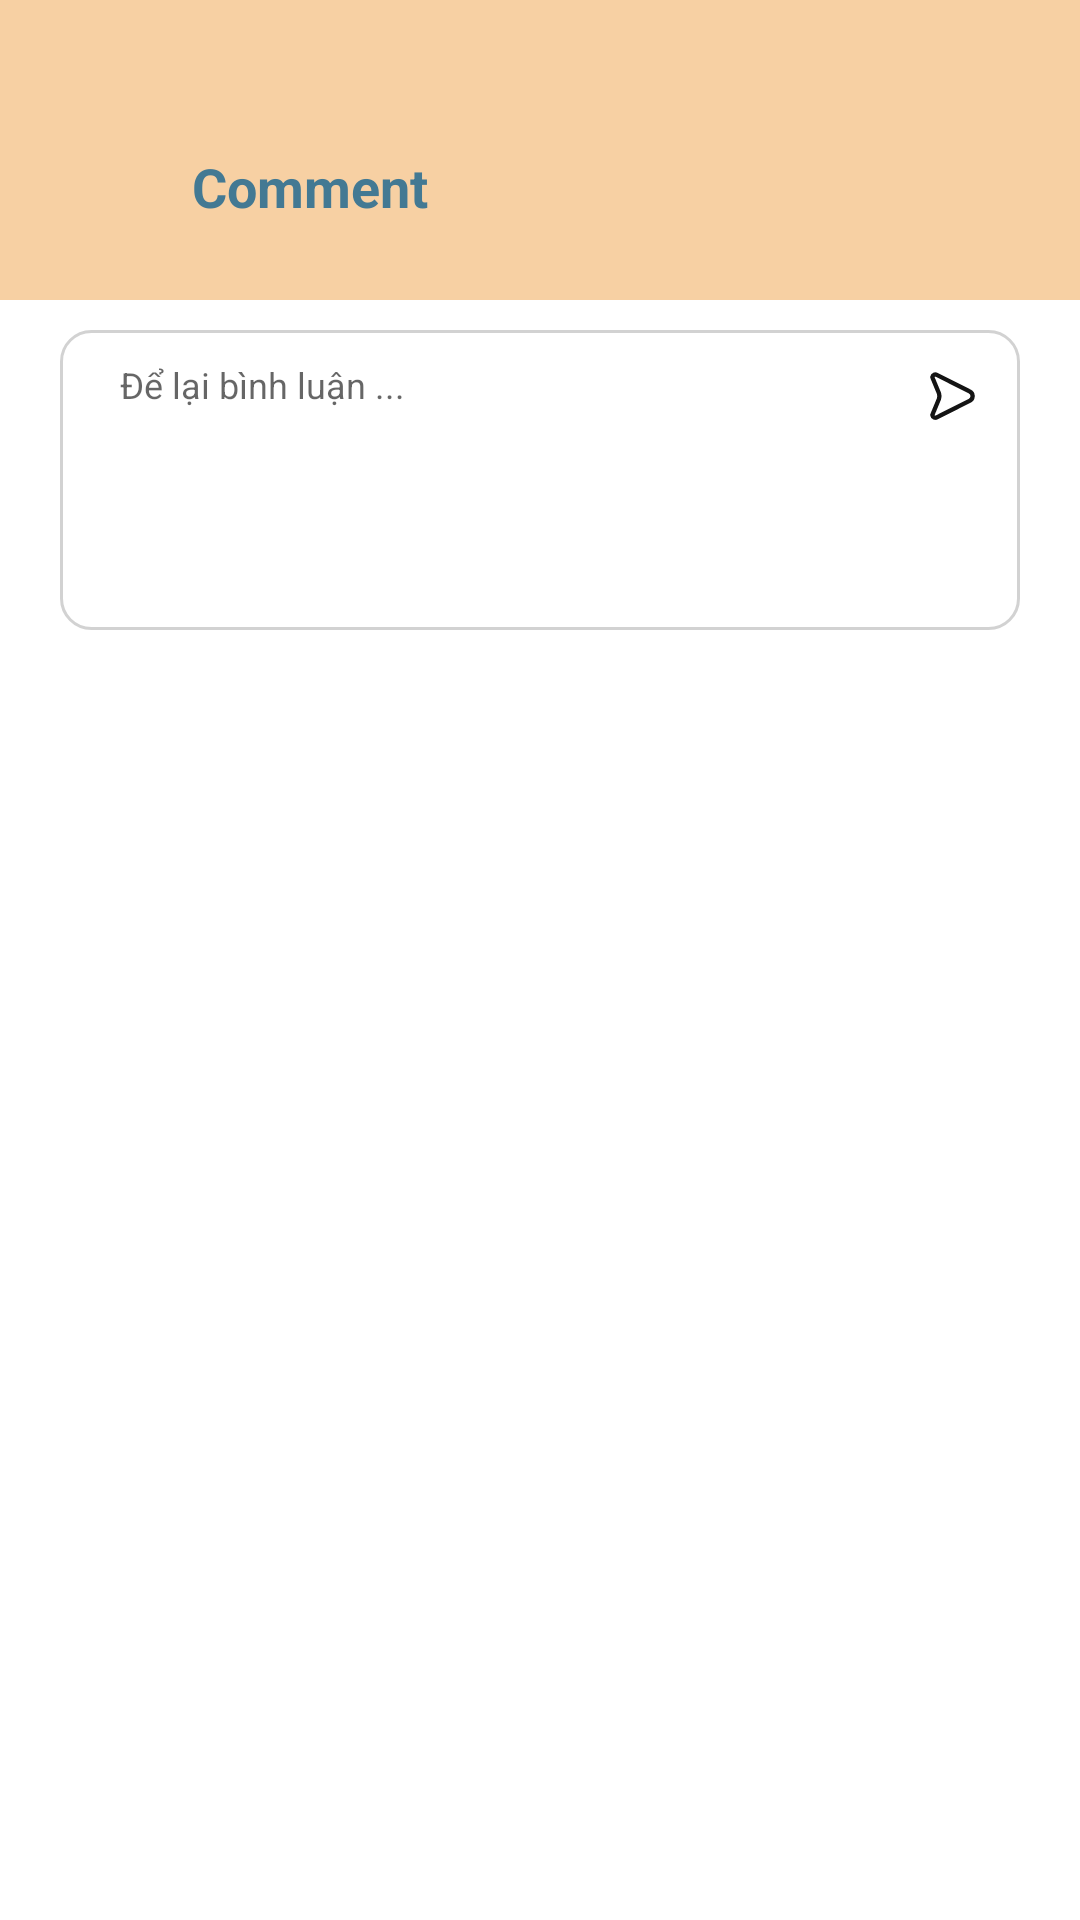

Icons on this 1080x1920 Android screen, each with its box as {"x1": x1, "y1": y1, "x2": x2, "y2": y2}:
send: {"x1": 930, "y1": 372, "x2": 975, "y2": 420}
